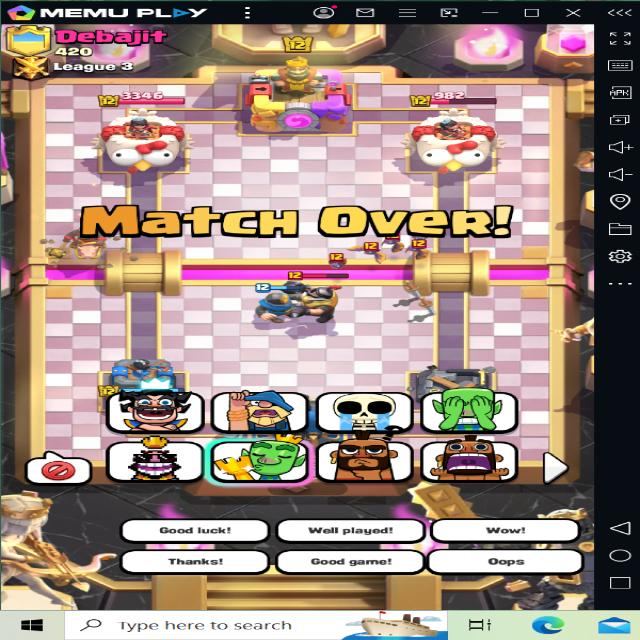bats: (313, 244, 355, 270), (374, 225, 408, 253), (410, 240, 445, 265), (351, 241, 384, 261)
mega-knight: (290, 268, 355, 325)
